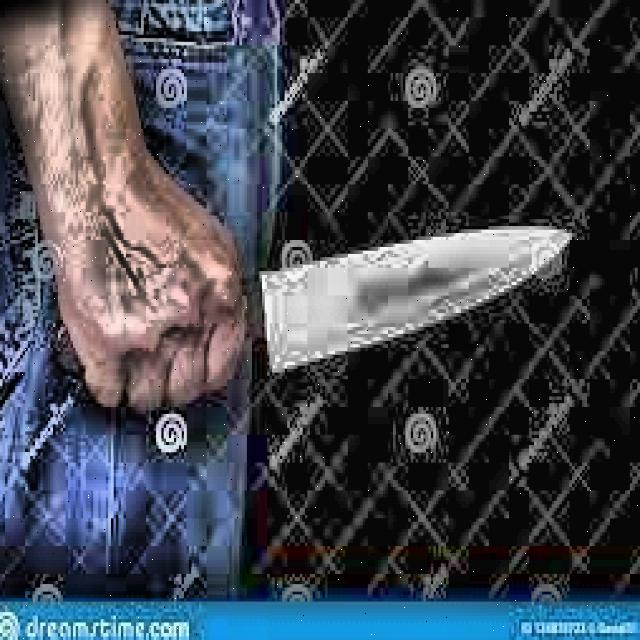knife: (59, 226, 571, 392)
